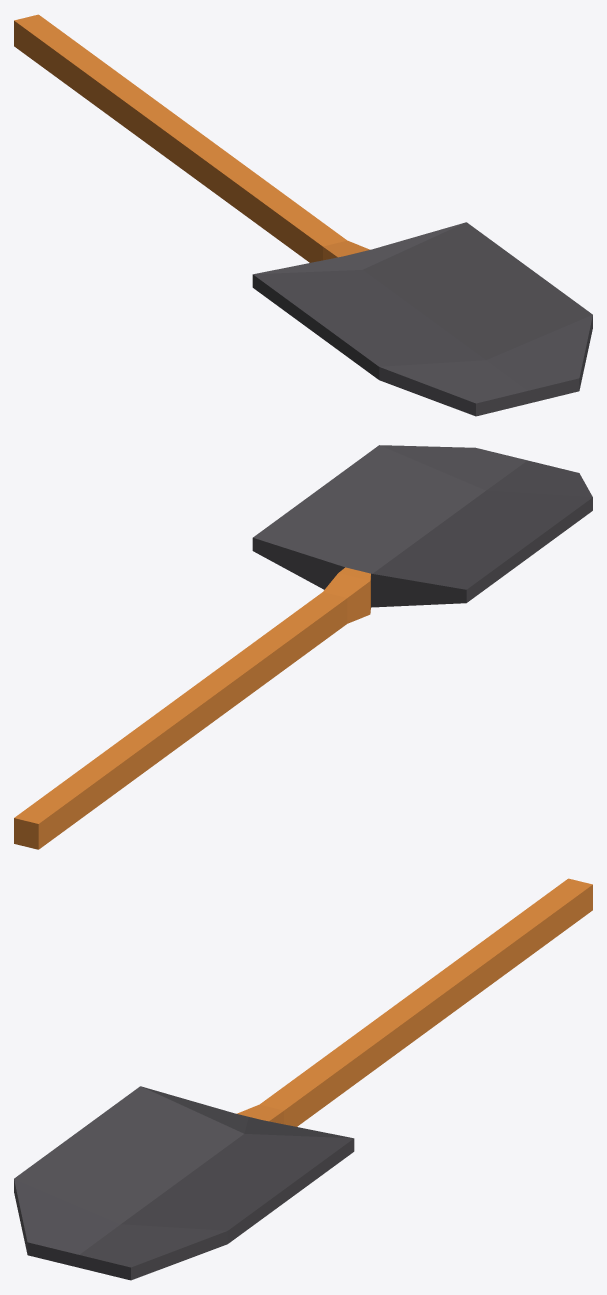
File: iron_shovel.glb
3 renders of one model, top to bottom at view 1: azimuth 30°, elevation 25°; view 2: azimuth 150°, elevation 25°; view 3: azimuth 330°, elevation 25°, orthographic.
Visible parts, largest first — view 1: Cube; view 2: Cube; view 3: Cube.
Boxes of the visible parts, bbox=[...] form: Cube: bbox=[14, 14, 592, 416]; Cube: bbox=[14, 445, 592, 849]; Cube: bbox=[14, 878, 592, 1280].
Bounding box in the file's own units: 4.29 × 0.8235 × 17.41.
